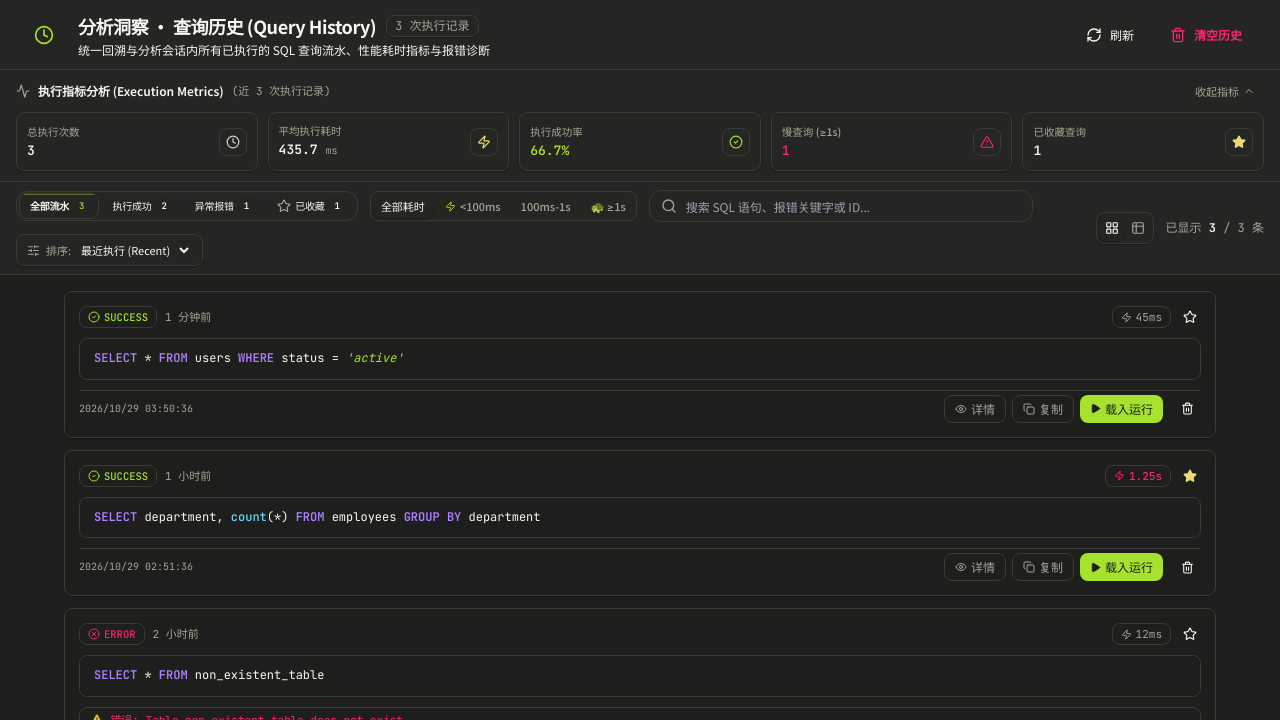
Test case: HistoryTab workbench › cancels deletion from a nested drawer without closing the drawer or losing a record
Step 1. Click the button titled "查看详情分析" in the row of "2026/10/29 03:50:36" → (975, 408), box [944,394,1006,422]
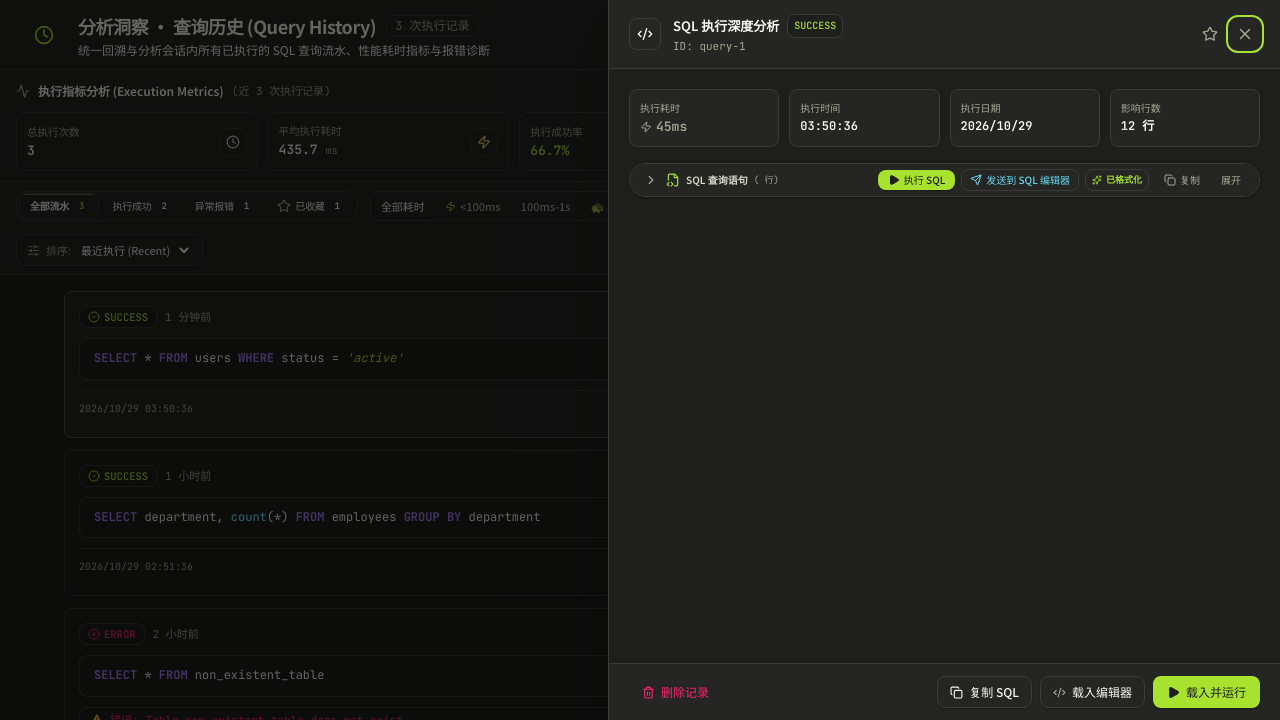
Step 2. Click the button "删除记录" → (676, 692), box [629,676,722,708]
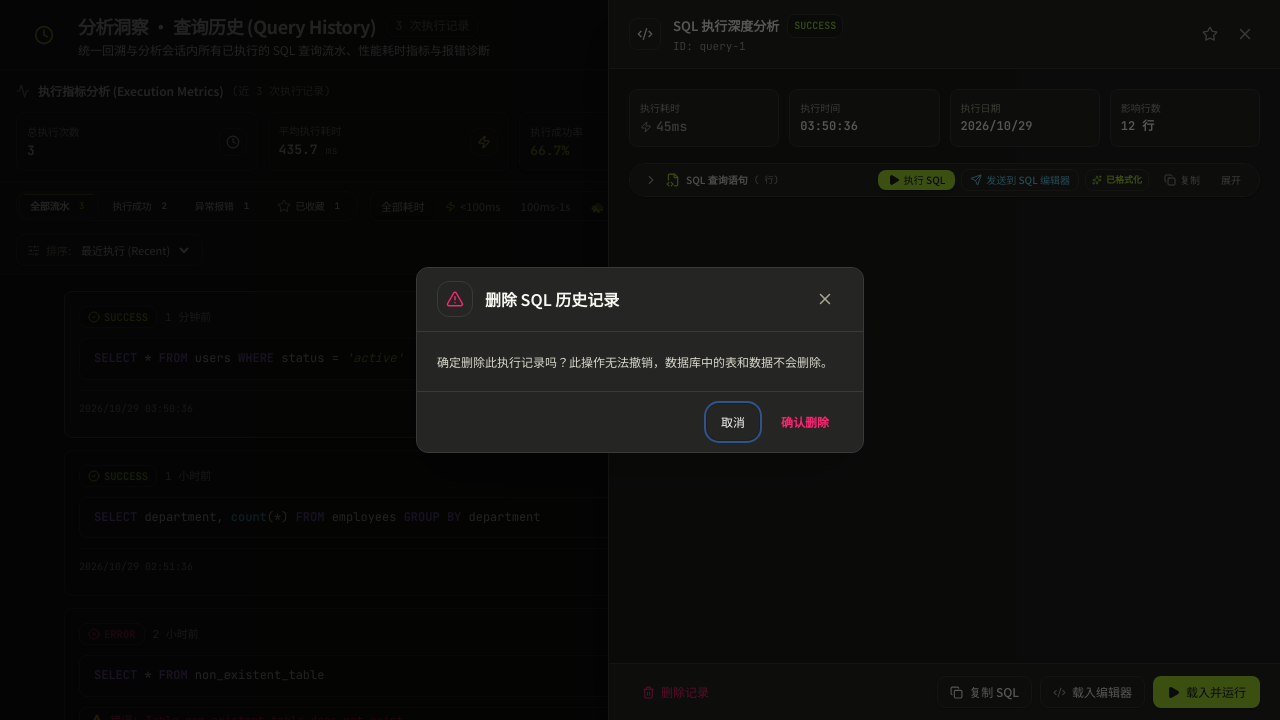
Check: the dialog "删除 SQL 历史记录" is shown, box [416,267,864,453]
Step 3. Press Escape
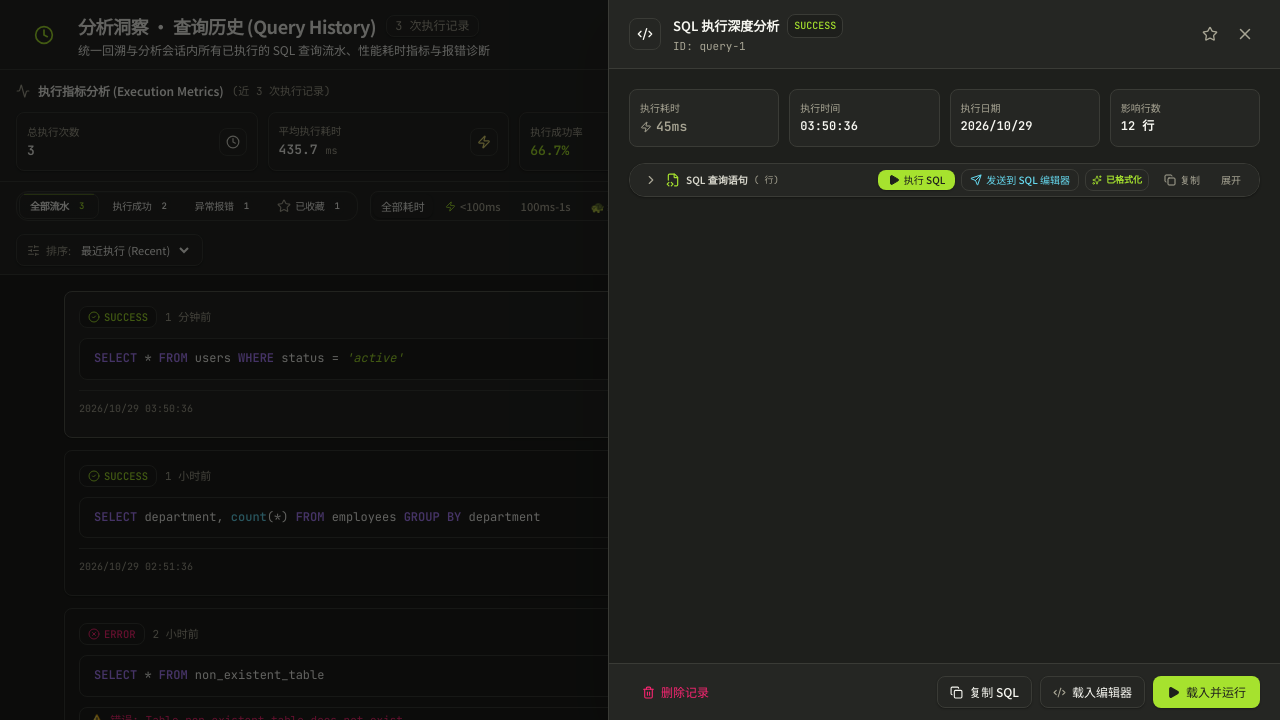
Check: the dialog "SQL 执行深度分析" is shown, box [608,0,1279,719]
Check: the heading "删除 SQL 历史记录" is gone
